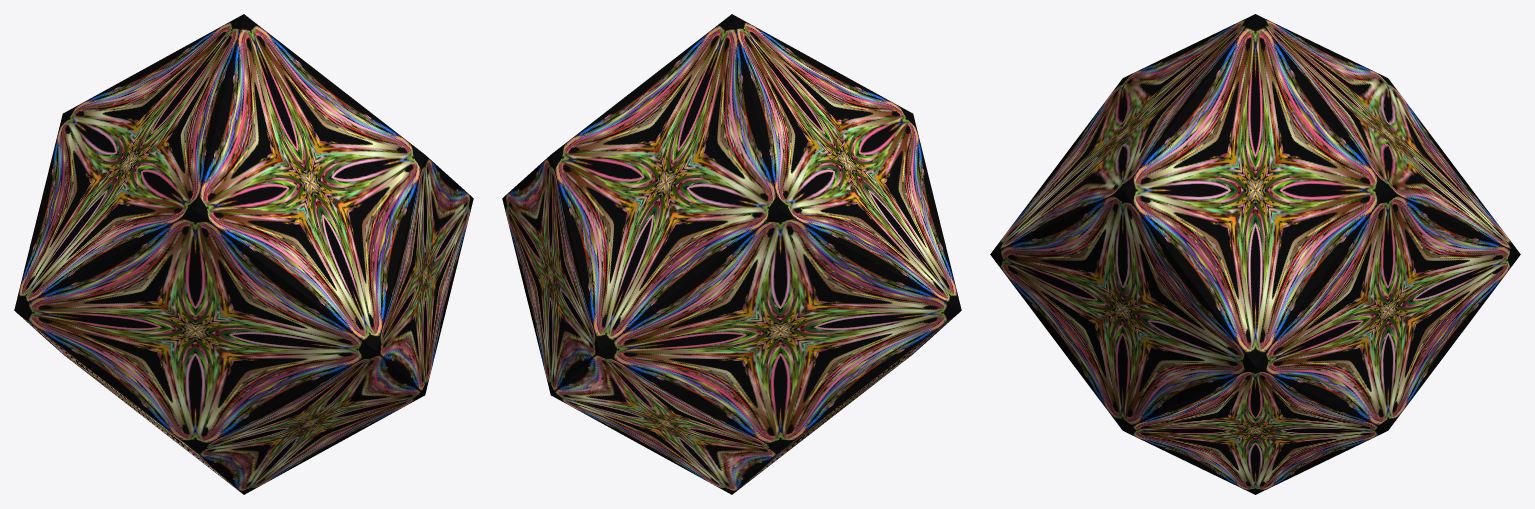
Rendered from RhombicDodecahedron2.obj.
The picture shows the model from 3 angles, left to right: view 1: azimuth 30°, elevation 25°; view 2: azimuth 150°, elevation 25°; view 3: azimuth 270°, elevation 25°; orthographic projection.
Size of the model in its own units: 2.12 by 2.12 by 2.12.
1 material, 1 textured.
